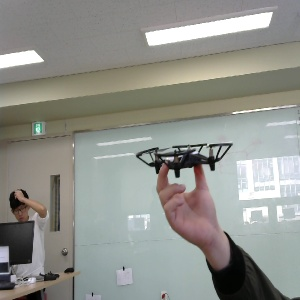Drone: (131, 136, 236, 182)
